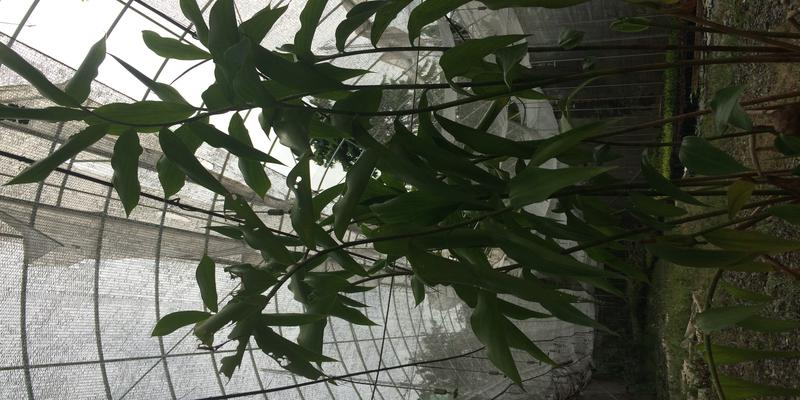Insulin: (189, 38, 778, 272)
